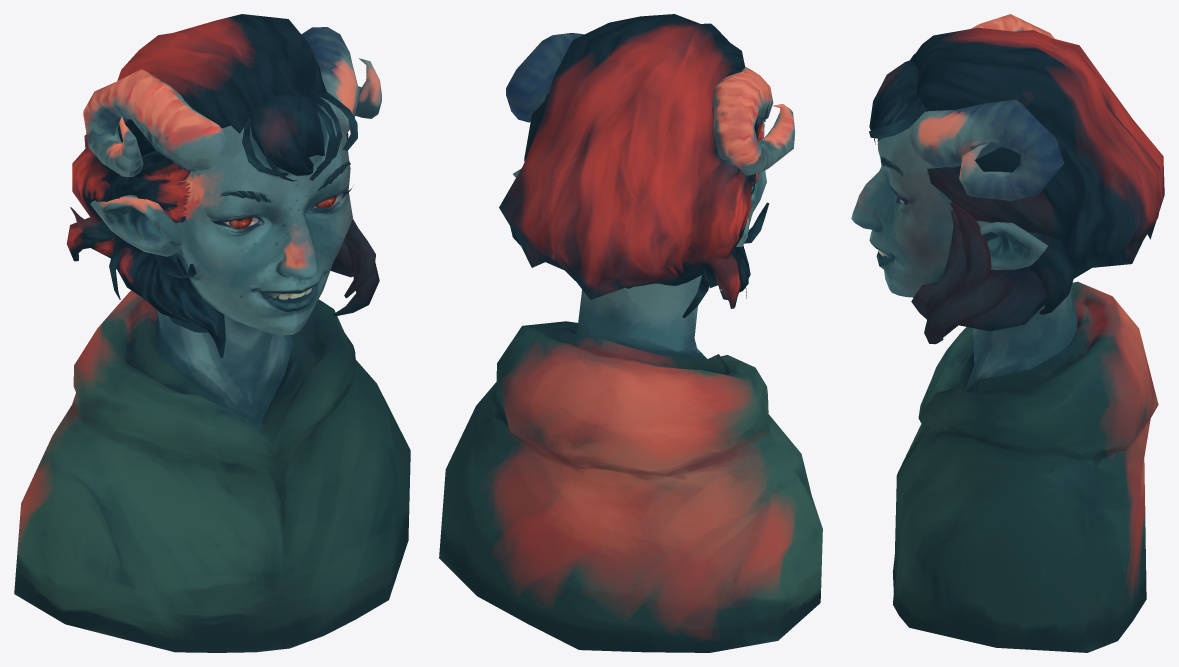
The model's file is tiefling.glb.
3 views of the same model, side by side, from view 1: azimuth 30°, elevation 25°; view 2: azimuth 150°, elevation 25°; view 3: azimuth 270°, elevation 25° (orthographic). The views are drawn at different scales.
Parts seen in each view (by area): view 1: Object_7, Object_3, Object_8, Object_5; view 2: Object_7, Object_3, Object_5, Object_8; view 3: Object_7, Object_3, Object_8, Object_5.
Boxes of the visible parts, bbox=[...] form: Object_7: bbox=[14, 290, 410, 652]; Object_3: bbox=[66, 14, 379, 357]; Object_8: bbox=[90, 97, 352, 428]; Object_5: bbox=[83, 27, 381, 177]; Object_7: bbox=[439, 321, 822, 652]; Object_3: bbox=[499, 14, 769, 318]; Object_5: bbox=[506, 33, 795, 175]; Object_8: bbox=[513, 121, 766, 360]; Object_7: bbox=[892, 281, 1158, 652]; Object_3: bbox=[869, 27, 1164, 344]; Object_8: bbox=[851, 103, 1077, 390]; Object_5: bbox=[909, 14, 1064, 200].
Size of the model in its own units: 2.87 by 4.43 by 2.24.
Materials: 6 (6 with a texture image).
